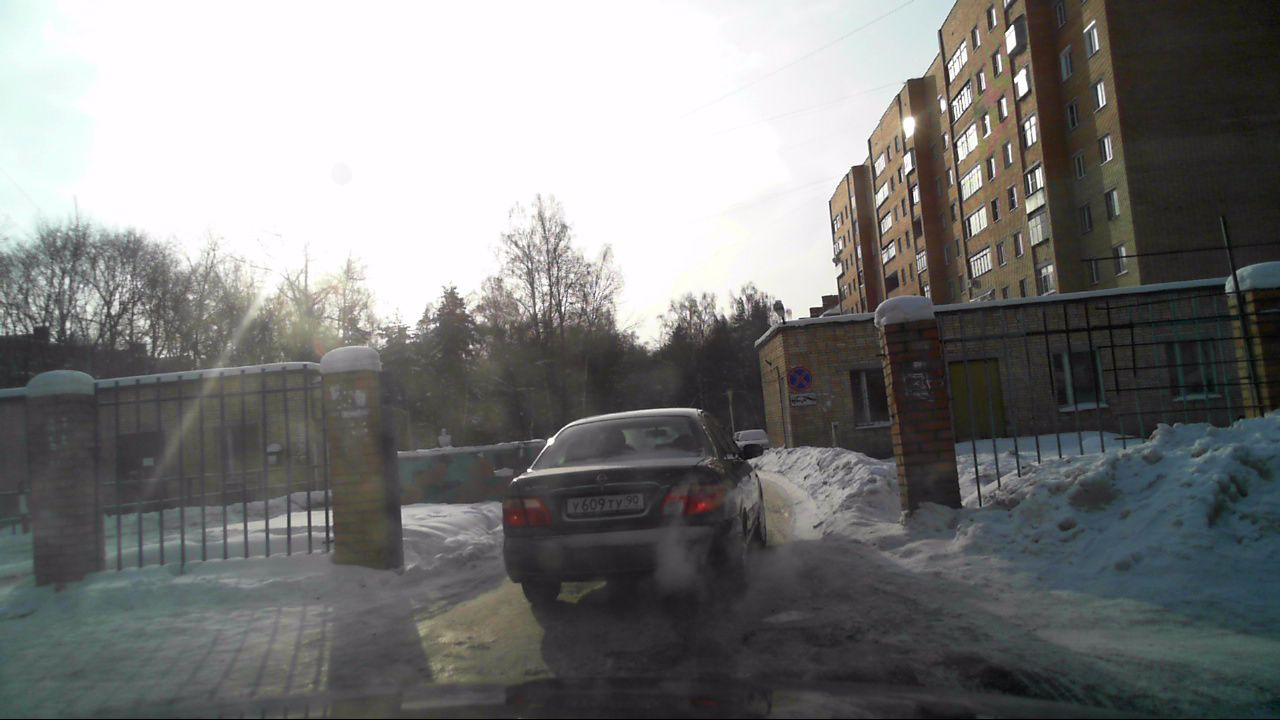No Parking: (787, 366, 811, 390)
